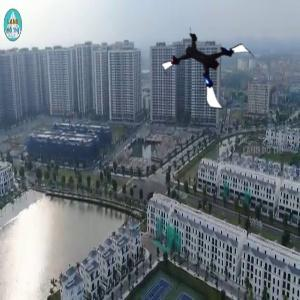drone: (172, 24, 252, 104)
